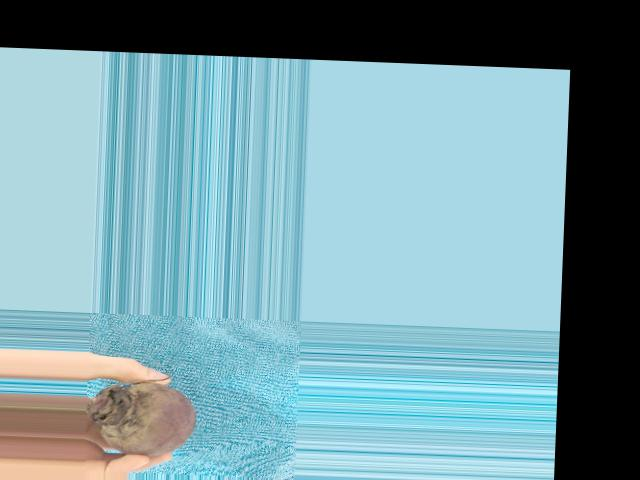beet: (86, 370, 197, 457)
